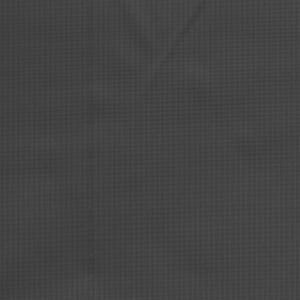Wrinkle: (114, 1, 292, 199), (2, 130, 74, 300)
